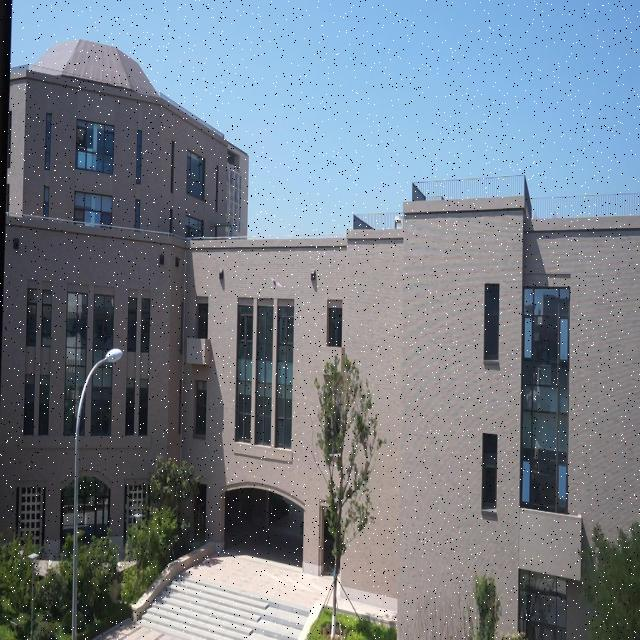UAV: (270, 277, 282, 291)
